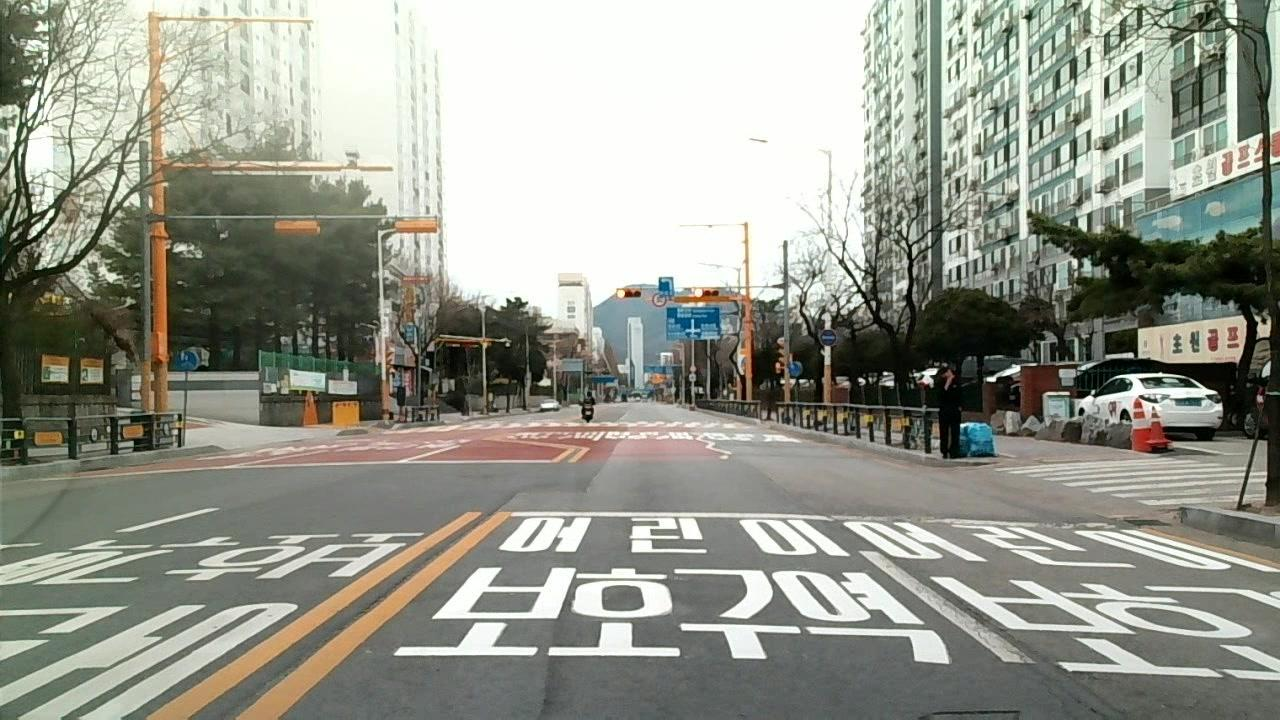banner: (921, 577, 1105, 710), (316, 559, 430, 639), (958, 418, 998, 457), (288, 368, 328, 391), (327, 375, 363, 397)
